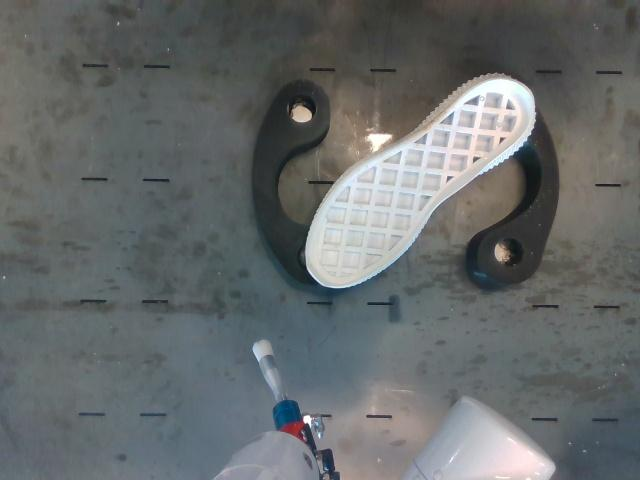shoes: (306, 79, 534, 287)
